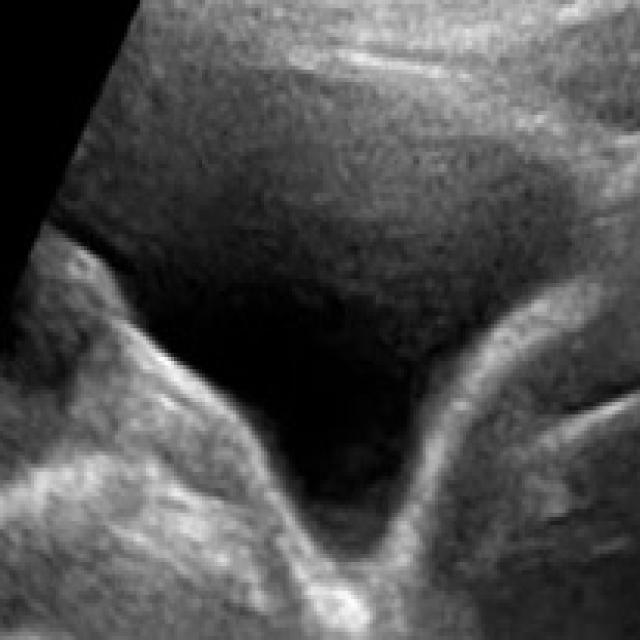bladder: (37, 0, 638, 620)
